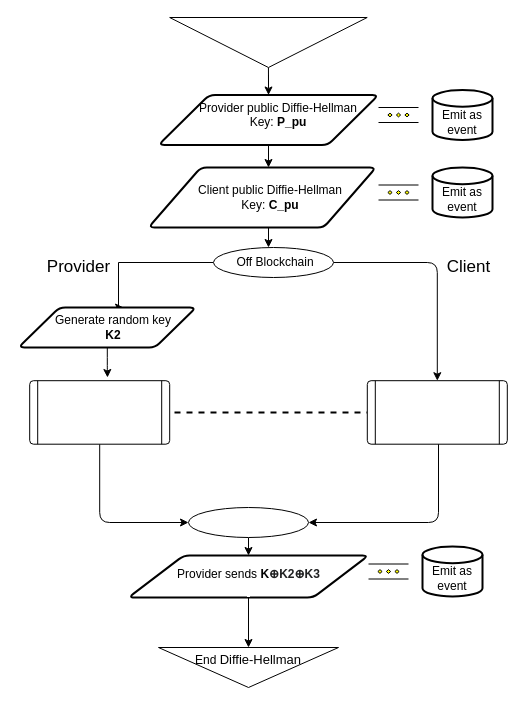
This 527x705 diagram has some shape labels left out. The centre of each missing label's shape, as x and y in pixels:
Compute Diffie Hellman Secret K3 from P_Pu,C_Pr,C_Pu: the point at 436,412
Compute Diffie Hellman Secret K3 from P_Pu,P_Pr,C_Pu: the point at 99,412
On Blockchain: the point at 248,522
Start Diffie-Hellman: the point at 268,42
